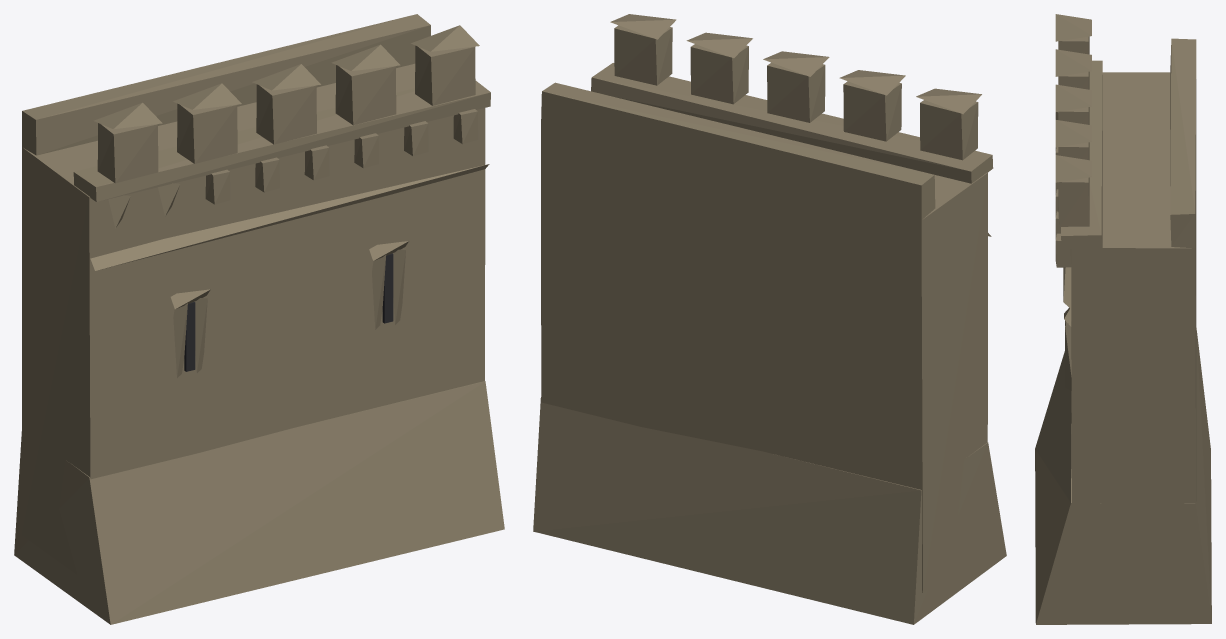
Rendered from castle-wall-lod1.glb.
The picture shows the model from 3 angles, left to right: view 1: azimuth 30°, elevation 25°; view 2: azimuth 150°, elevation 25°; view 3: azimuth 270°, elevation 25°; orthographic projection. The views are drawn at different scales.
Size of the model in its own units: 8 by 9.35 by 3.39.
